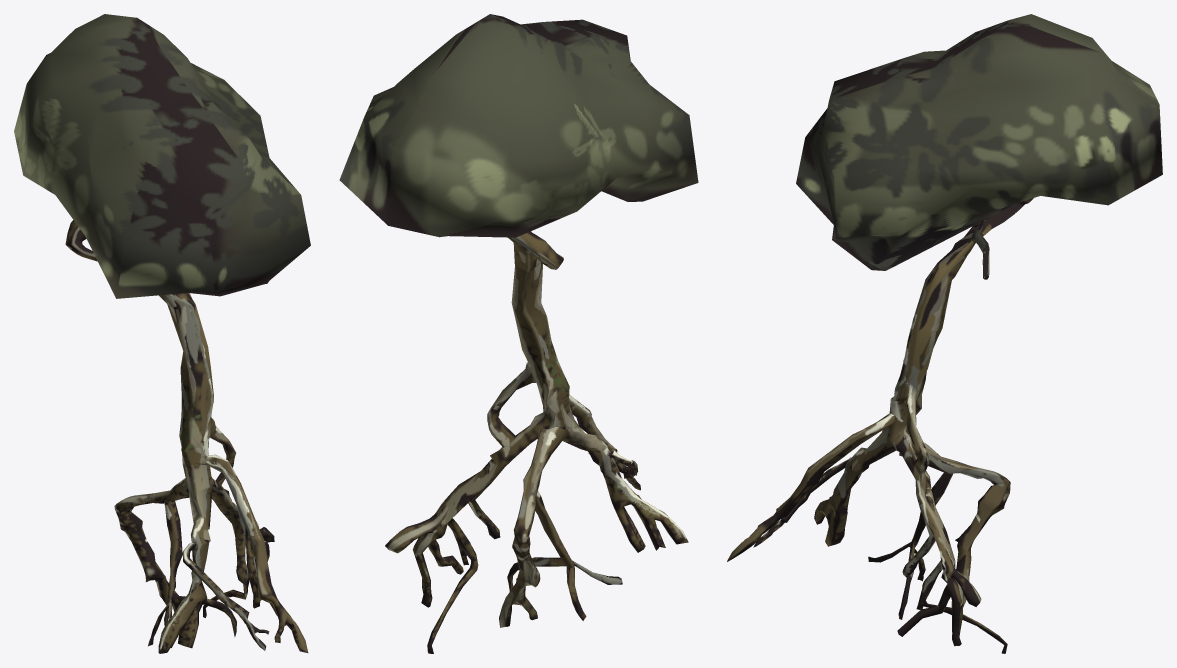
The model's file is SM_mangrove.fbx.
3 views of the same model, side by side, from view 1: azimuth 30°, elevation 25°; view 2: azimuth 150°, elevation 25°; view 3: azimuth 270°, elevation 25° (orthographic). The views are drawn at different scales.
Visible parts, largest first — view 1: SM_MangroveFolliage, SM_Mangrove; view 2: SM_MangroveFolliage, SM_Mangrove; view 3: SM_MangroveFolliage, SM_Mangrove.
Boxes of the visible parts, x1,y1,x2,y2 form: SM_MangroveFolliage: (14, 14, 310, 298); SM_Mangrove: (65, 220, 308, 653); SM_MangroveFolliage: (339, 14, 698, 237); SM_Mangrove: (385, 231, 688, 653); SM_MangroveFolliage: (796, 14, 1162, 270); SM_Mangrove: (727, 198, 1033, 653).
Size of the model in its own units: 1258 by 3268 by 2149.
Materials: 1 (1 with a texture image).
